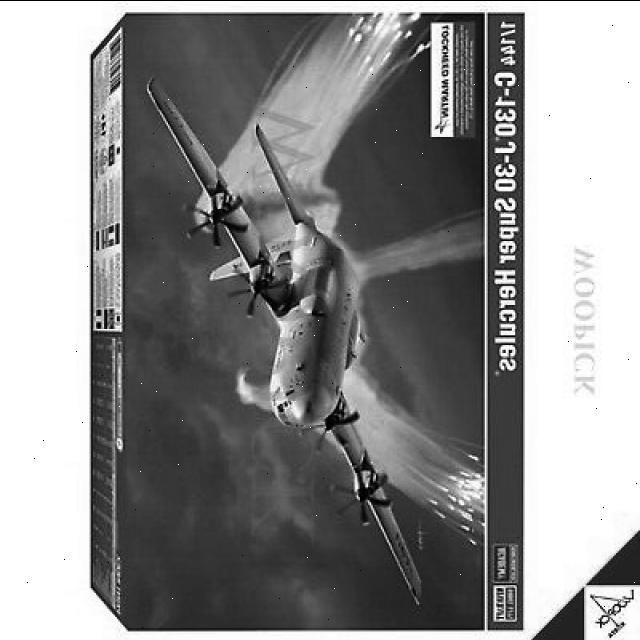C130: (132, 46, 444, 624)
